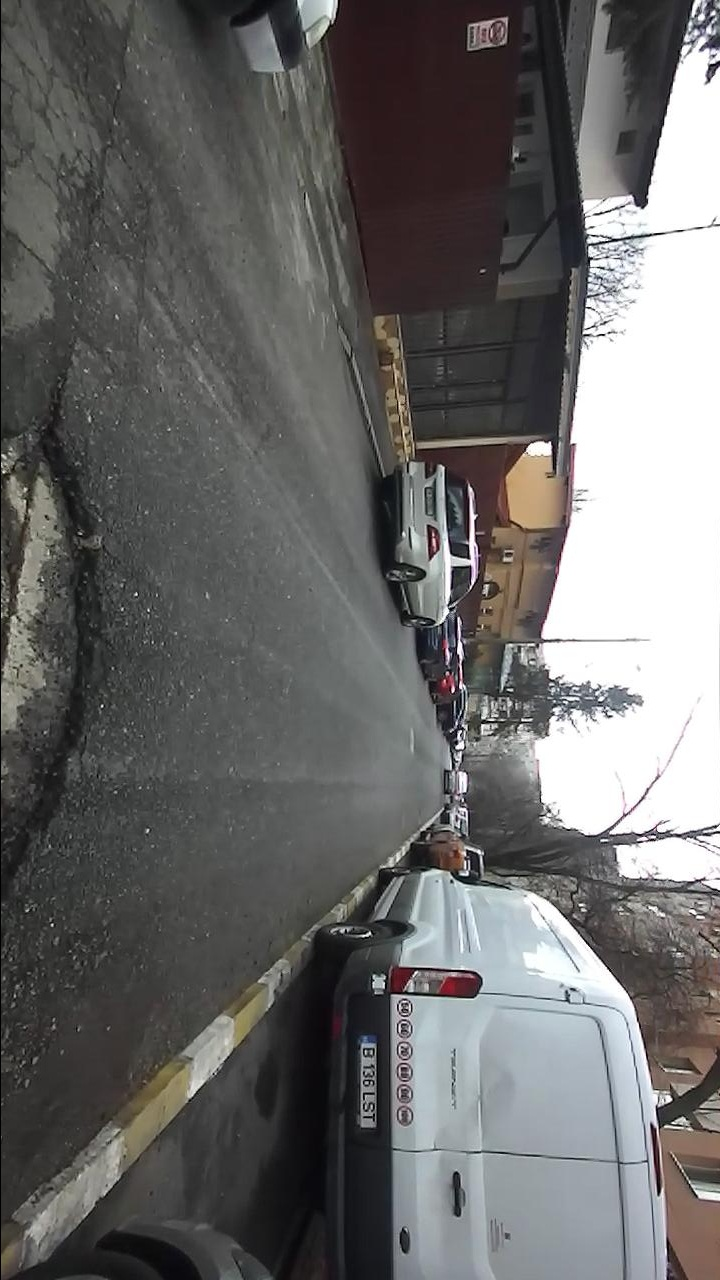pothole: (1, 381, 121, 922)
